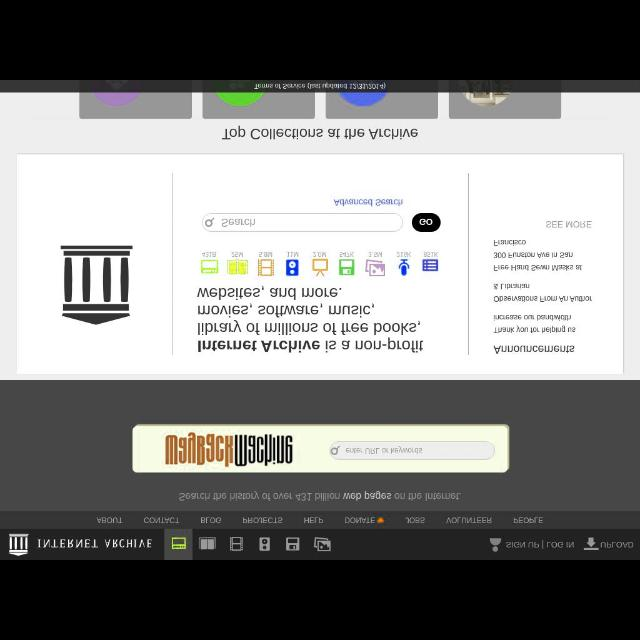icon: (310, 535, 334, 553), (197, 536, 220, 552), (229, 535, 247, 553), (170, 535, 190, 551), (284, 535, 302, 551), (487, 538, 503, 554), (583, 536, 599, 550), (257, 538, 273, 552), (204, 218, 216, 228), (333, 446, 341, 456), (377, 517, 383, 523)
image: (195, 245, 447, 279), (52, 238, 138, 330), (161, 432, 295, 468), (490, 238, 590, 272), (6, 534, 156, 556), (78, 93, 192, 119), (450, 94, 562, 120), (202, 94, 314, 118), (326, 94, 438, 118), (492, 282, 592, 306), (490, 314, 578, 336), (490, 344, 576, 354)
input: (202, 214, 404, 232), (330, 442, 498, 460)
link: (332, 198, 404, 208), (546, 219, 592, 229), (343, 492, 392, 501)
multitab: (1, 512, 640, 528)
text: (194, 284, 430, 354), (220, 125, 422, 146), (178, 491, 462, 504), (254, 81, 386, 89), (344, 446, 426, 456), (446, 517, 494, 525), (144, 516, 180, 526), (220, 218, 256, 228), (242, 516, 282, 524), (546, 540, 576, 550), (507, 540, 541, 548), (96, 516, 122, 526), (513, 516, 545, 524), (602, 540, 634, 548), (343, 518, 375, 524), (302, 516, 324, 524), (199, 517, 223, 523), (404, 518, 426, 524), (418, 218, 434, 226)
textbutton: (412, 214, 442, 232)
toolbar: (0, 529, 638, 559)
